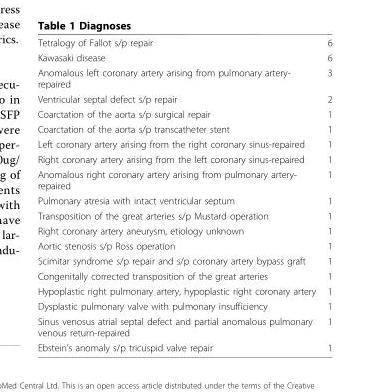table: (36, 36, 331, 352)
table column: (36, 36, 320, 352), (320, 36, 331, 352)
table row: (36, 64, 331, 91), (36, 166, 331, 192), (36, 313, 331, 339), (36, 252, 331, 268), (36, 49, 331, 64), (36, 91, 331, 106), (36, 106, 331, 121), (36, 121, 331, 136), (36, 136, 331, 151), (36, 151, 331, 166), (36, 192, 331, 207), (36, 207, 331, 222), (36, 222, 331, 237), (36, 237, 331, 252), (36, 268, 331, 283), (36, 283, 331, 298), (36, 298, 331, 313), (36, 36, 331, 49), (36, 339, 331, 352)
